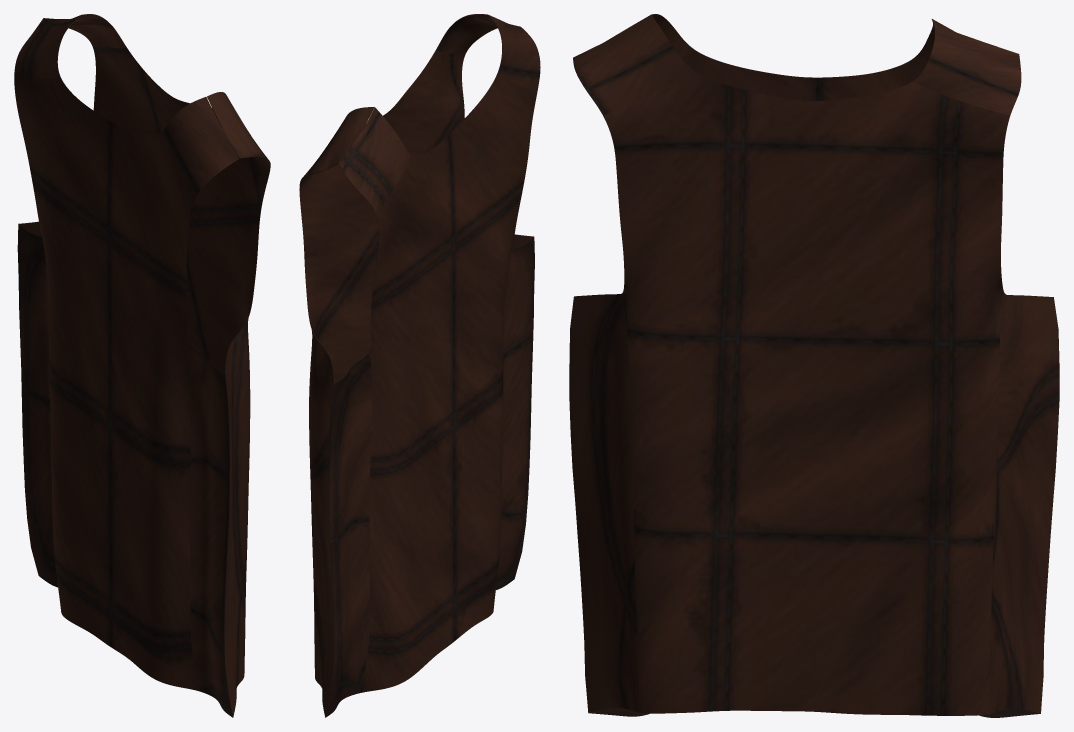
Rendered from Cannottiera 1.fbx.
The picture shows the model from 3 angles, left to right: view 1: azimuth 30°, elevation 25°; view 2: azimuth 150°, elevation 25°; view 3: azimuth 270°, elevation 25°; orthographic projection. The views are drawn at different scales.
Visible parts, largest first — view 1: SaloneT-Shirt.009; view 2: SaloneT-Shirt.009; view 3: SaloneT-Shirt.009.
Part boxes in pixels (x1,y1,x2,y2): SaloneT-Shirt.009: (14,14,270,717); SaloneT-Shirt.009: (299,14,540,717); SaloneT-Shirt.009: (569,14,1059,717).
Size of the model in its own units: 63.41 by 434 by 275.
1 material, 1 textured.
